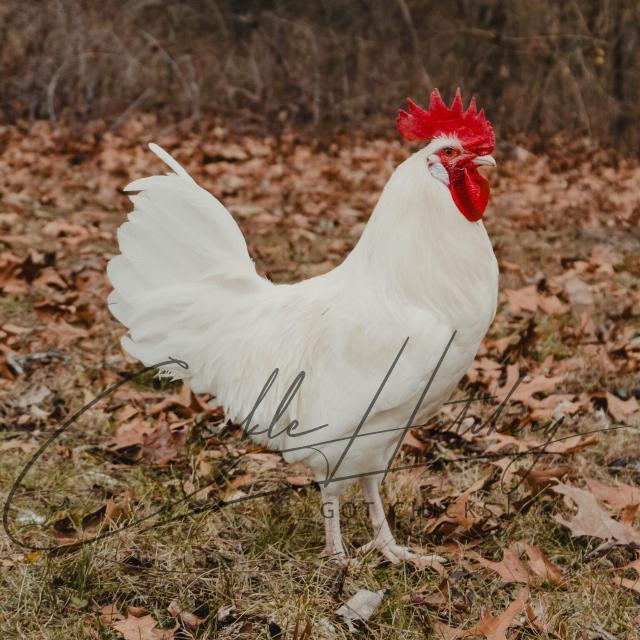Chicken: (105, 82, 502, 562)
